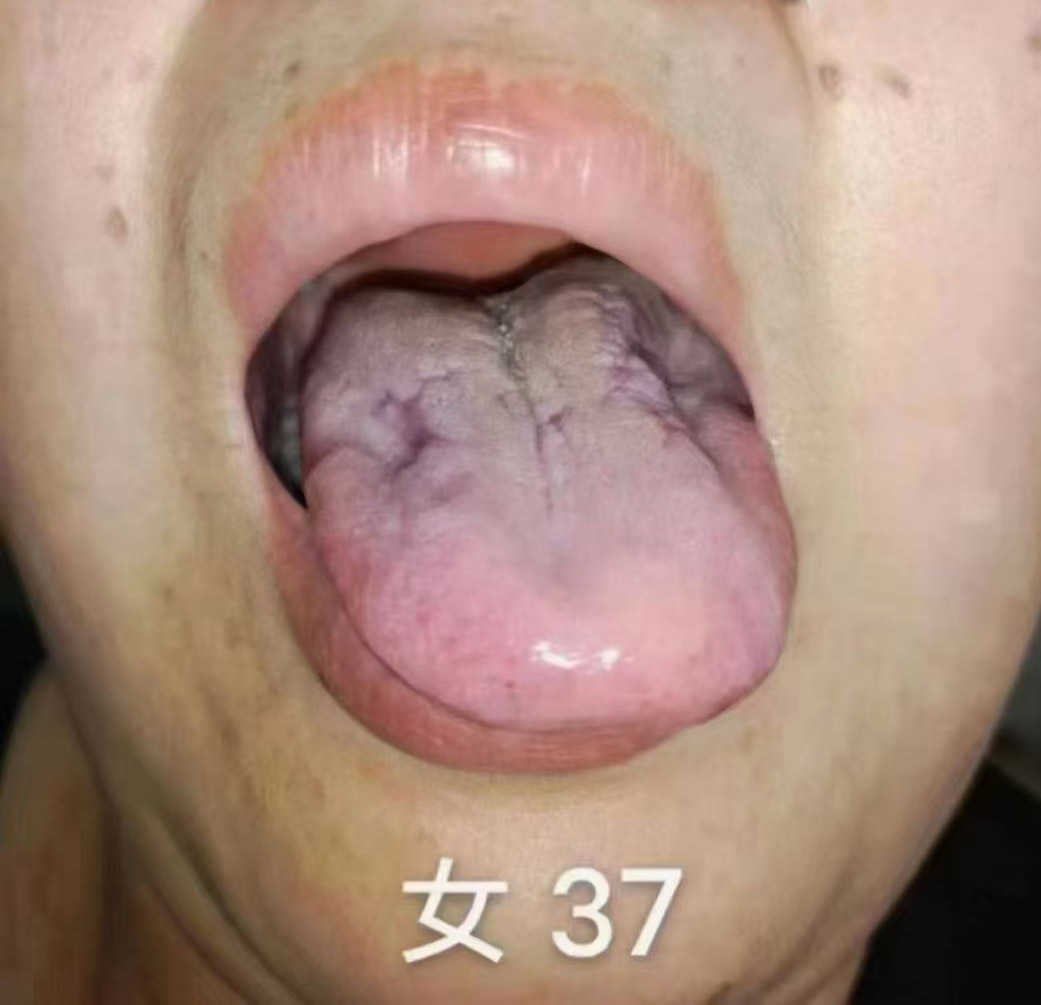baitaishe: (305, 262, 794, 727)
gandanao: (587, 264, 781, 511), (305, 318, 473, 582)
liewenshe: (467, 287, 574, 526)
zishe: (305, 260, 794, 725)
